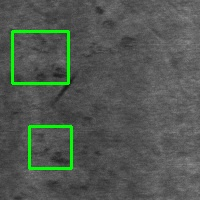rolled-in_scale: (13, 31, 68, 83), (29, 126, 71, 168)
